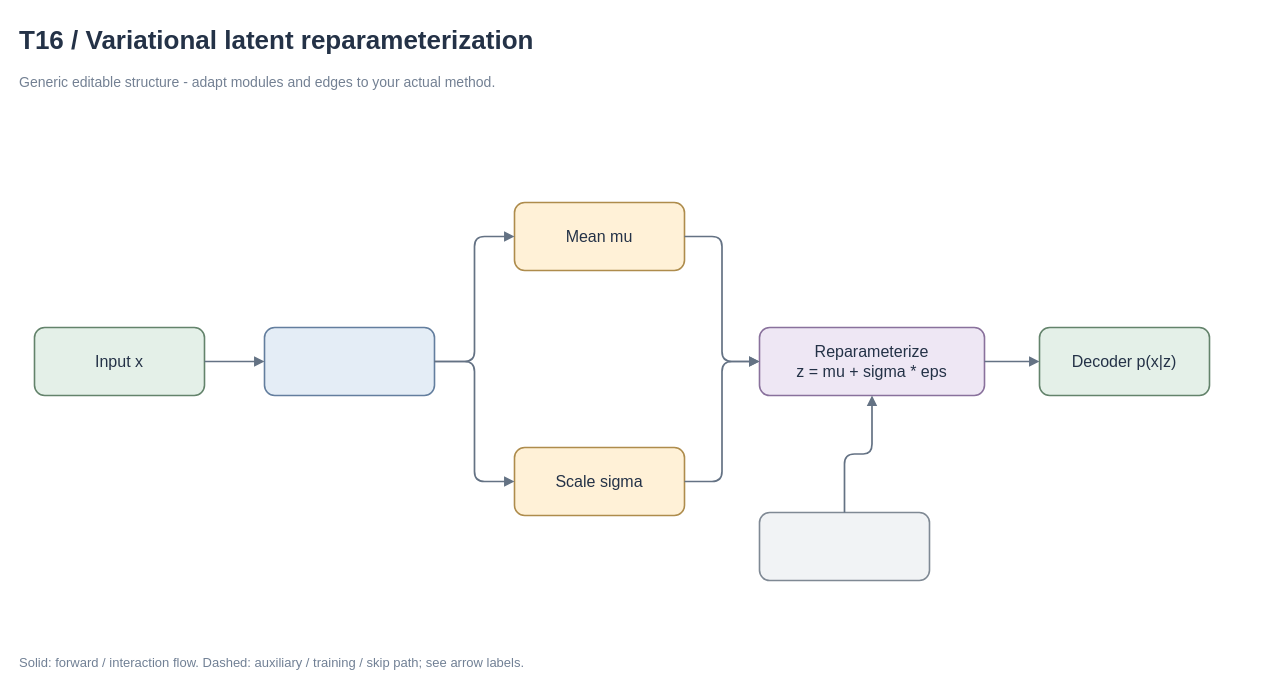
Image size: 1264x695. Some labels were removed from this diagram. The shapes that lost their labels are listed below. From the top down, each one's centre as x and y in pixels, then its label:
At (349,361): "Encoder q(z|x)".
At (844,546): "eps ~ N(0, I)".
